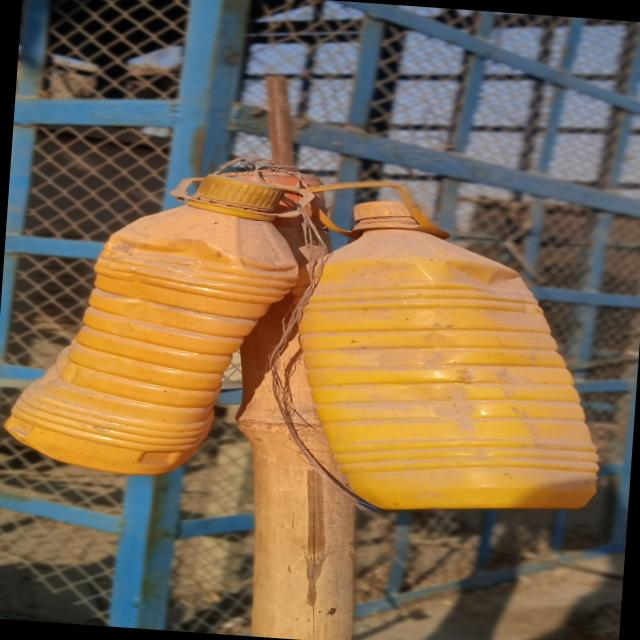general: (0, 141, 327, 487), (282, 192, 618, 525)
